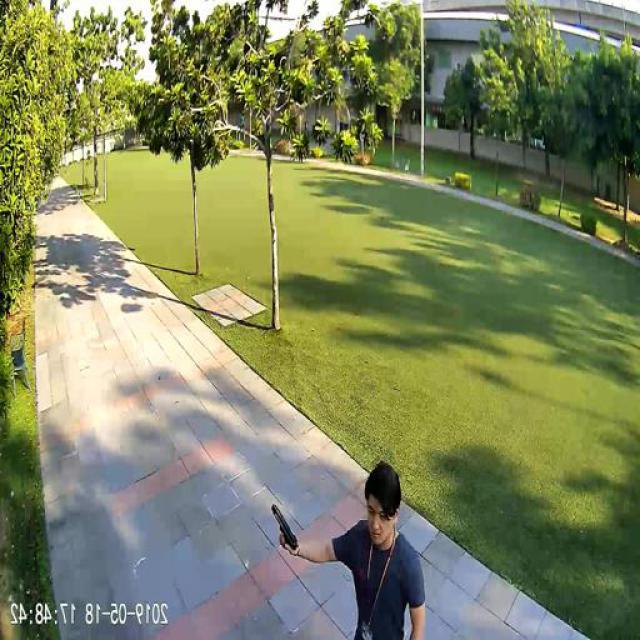Gun: (272, 501, 300, 549)
